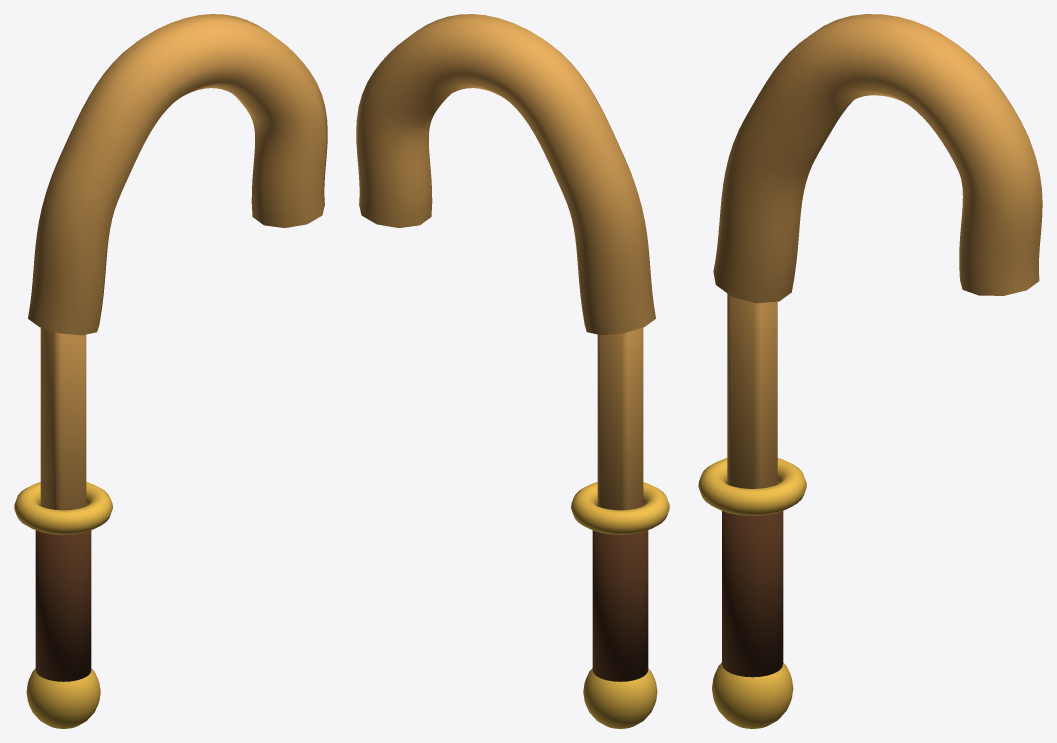
File: khopesh.glb
3 renders of one model, left to right at view 1: azimuth 30°, elevation 25°; view 2: azimuth 150°, elevation 25°; view 3: azimuth 330°, elevation 25°, orthographic. The views are drawn at different scales.
Visible parts, largest first — view 1: khopesh_fijo; view 2: khopesh_fijo; view 3: khopesh_fijo.
Part boxes in pixels (box(x1,y1,x2,y2)): khopesh_fijo: box(14, 14, 327, 728); khopesh_fijo: box(356, 14, 669, 728); khopesh_fijo: box(698, 14, 1042, 728).
Bounding box in the file's own units: 0.5622 × 1.2 × 0.16.
1 material, 1 textured.
